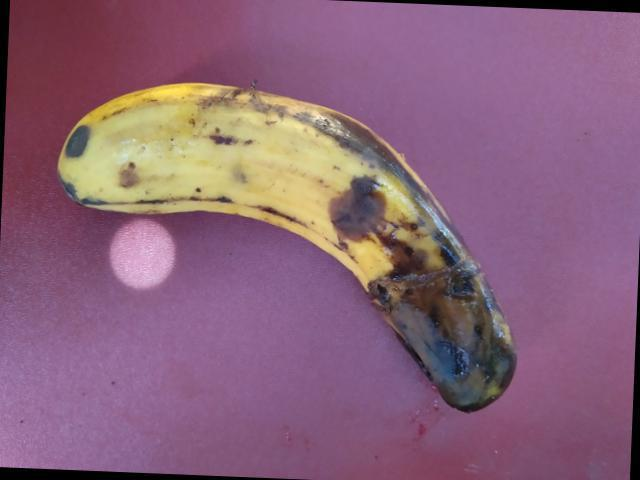rotten: (67, 69, 535, 444)
